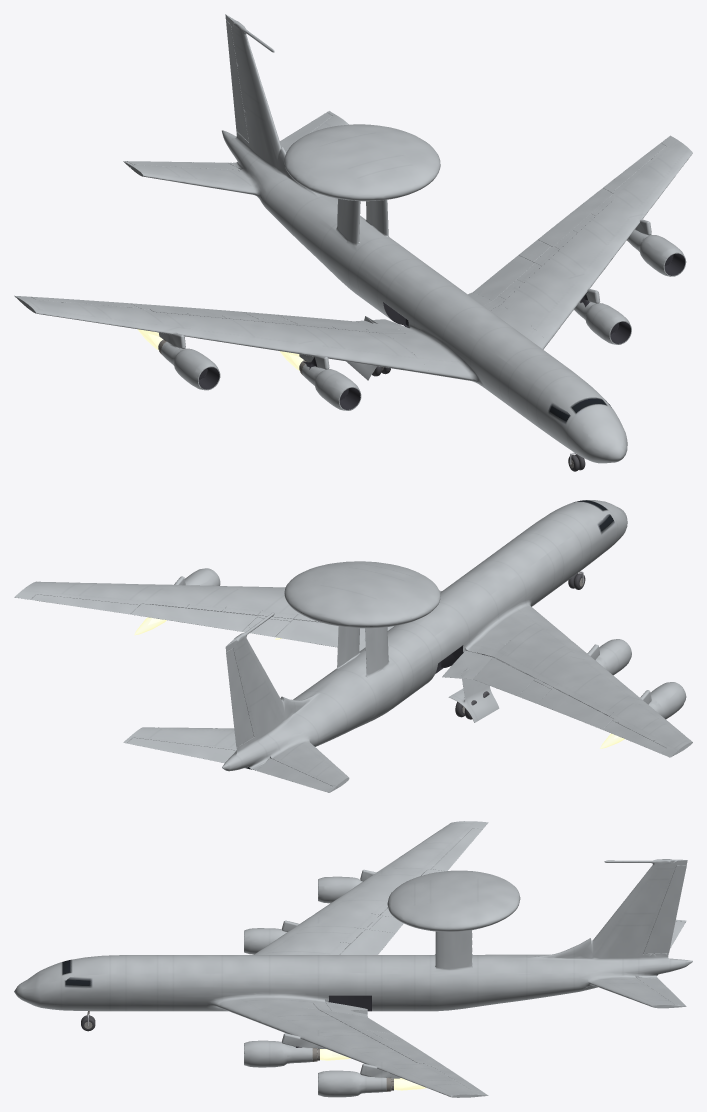
3 views of the same model, one above another, from view 1: azimuth 30°, elevation 25°; view 2: azimuth 150°, elevation 25°; view 3: azimuth 270°, elevation 25° (orthographic). The views are drawn at different scales.
Parts seen in each view (by area): view 1: fsim:section:centre, fsim:section:tail, fsim:section:right-wing, fsim:section:left-wing, fsim:section:nose, fsim:flaps (×3), fsim:rudder; view 2: fsim:section:tail, fsim:section:centre, fsim:section:right-wing, fsim:flaps (×4), fsim:section:nose, fsim:section:left-wing, fsim:aileron (×3), fsim:elevator (×2), fsim:rudder, Right Main Gear door; view 3: fsim:section:tail, fsim:section:centre, fsim:section:nose, fsim:section:left-wing, fsim:section:right-wing, fsim:flaps (×3), fsim:rudder, fsim:aileron, fsim:elevator.
Part boxes in pixels (x1=…): fsim:section:centre: x1=158, y1=152, x2=686, y2=410; fsim:section:tail: x1=123, y1=14, x2=438, y2=290; fsim:section:right-wing: x1=14, y1=295, x2=474, y2=380; fsim:section:left-wing: x1=490, y1=135, x2=692, y2=349; fsim:section:nose: x1=480, y1=334, x2=627, y2=463; fsim:flaps (×3): x1=276, y1=188, x2=613, y2=329; fsim:rudder: x1=226, y1=20, x2=248, y2=141; fsim:section:tail: x1=123, y1=565, x2=439, y2=792; fsim:section:centre: x1=174, y1=536, x2=686, y2=719; fsim:section:right-wing: x1=466, y1=604, x2=692, y2=757; fsim:flaps (×4): x1=130, y1=604, x2=613, y2=729; fsim:section:nose: x1=496, y1=500, x2=627, y2=603; fsim:section:left-wing: x1=14, y1=581, x2=441, y2=622; fsim:aileron (×3): x1=31, y1=594, x2=666, y2=753; fsim:elevator (×2): x1=127, y1=737, x2=332, y2=791; fsim:rudder: x1=226, y1=648, x2=253, y2=747; Right Main Gear door: x1=448, y1=667, x2=499, y2=722; fsim:section:tail: x1=411, y1=859, x2=692, y2=1011; fsim:section:centre: x1=156, y1=869, x2=440, y2=1097; fsim:section:nose: x1=14, y1=955, x2=215, y2=1011; fsim:section:left-wing: x1=216, y1=995, x2=488, y2=1097; fsim:section:right-wing: x1=254, y1=821, x2=488, y2=954; fsim:flaps (×3): x1=325, y1=929, x2=446, y2=1067; fsim:rudder: x1=643, y1=865, x2=686, y2=953; fsim:aileron: x1=431, y1=828, x2=482, y2=870; fsim:elevator: x1=636, y1=977, x2=685, y2=1005.
Size of the model in its own units: 44.44 by 12.89 by 46.61.
11 materials, 1 textured.
